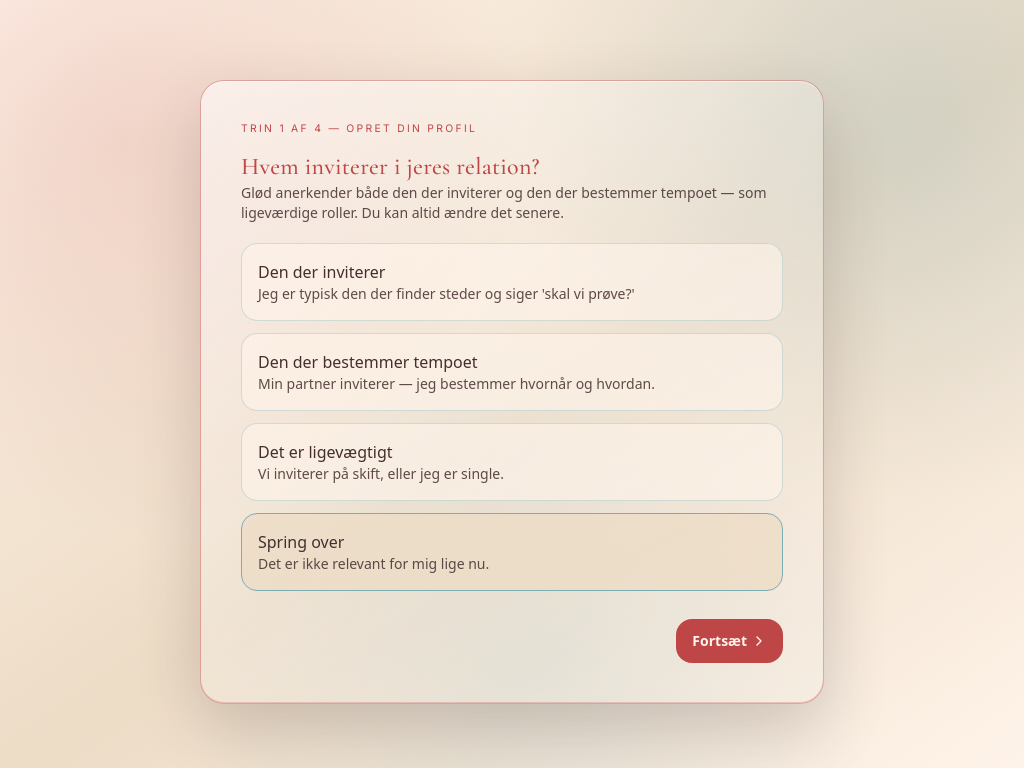
OnboardingPage › walks through role and face steps and saves selections
Expected: the heading "Hvem inviterer i jeres relation?" is shown, [241,152,540,181]
Click the text "Den der inviterer" at coordinates (322, 272), box [258,261,385,283]
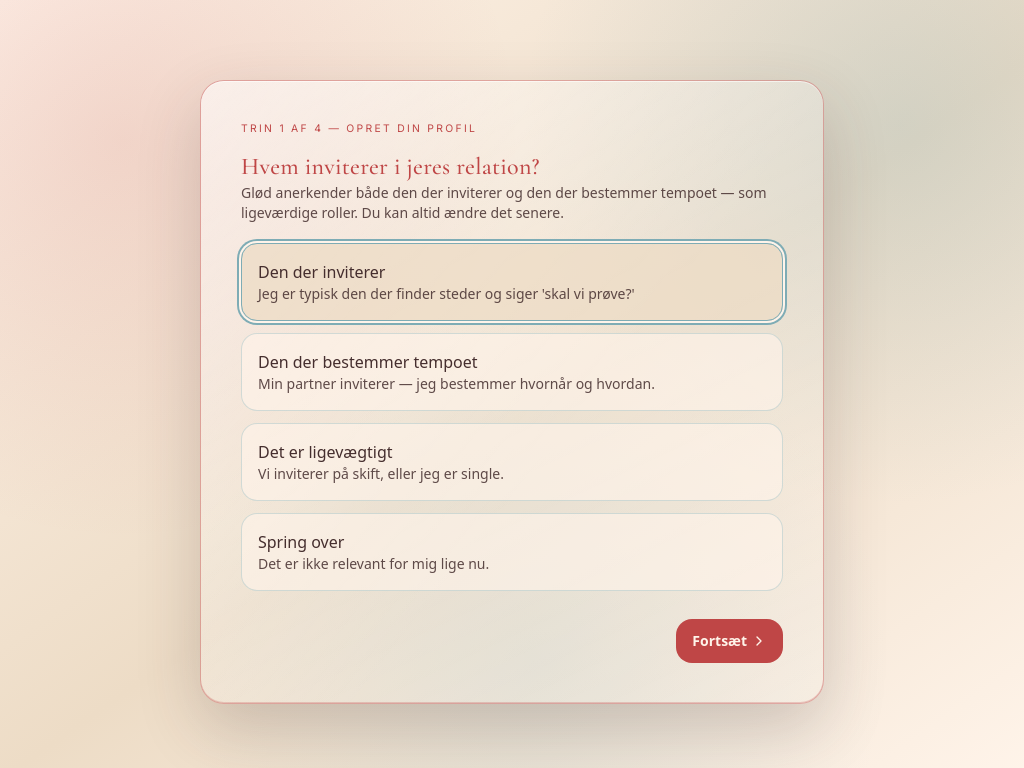
Click the button "Fortsæt" at coordinates (730, 641), box [676,619,783,663]
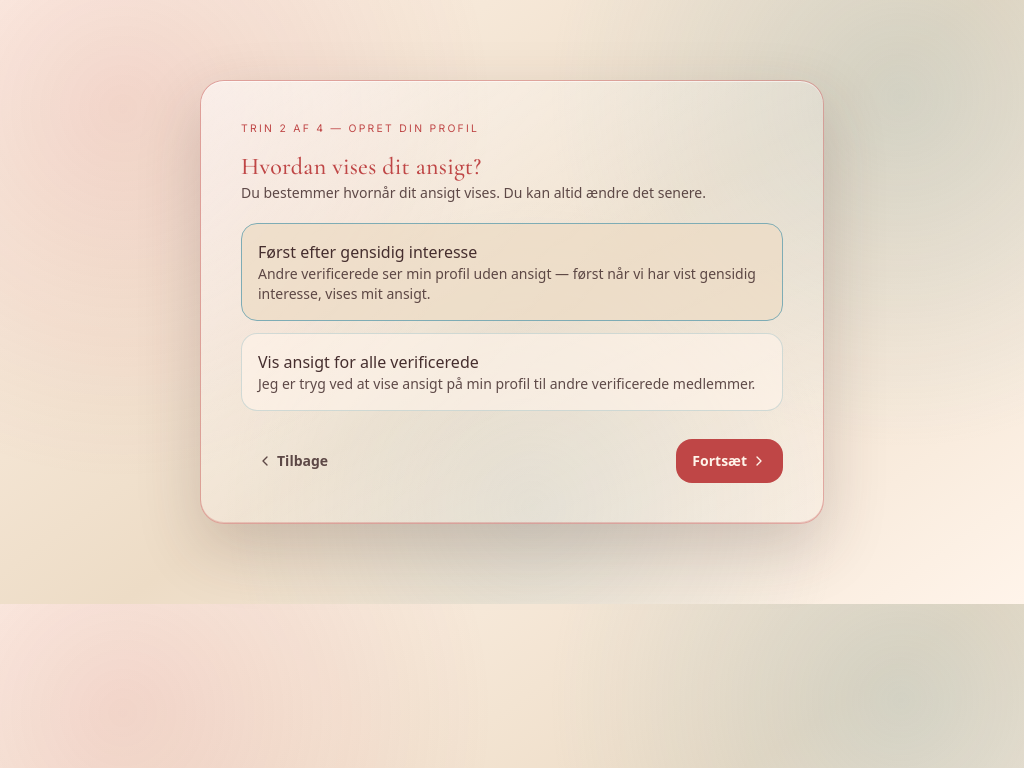
Result: the heading "Hvordan vises dit ansigt?" is shown at [241,152,481,181]
